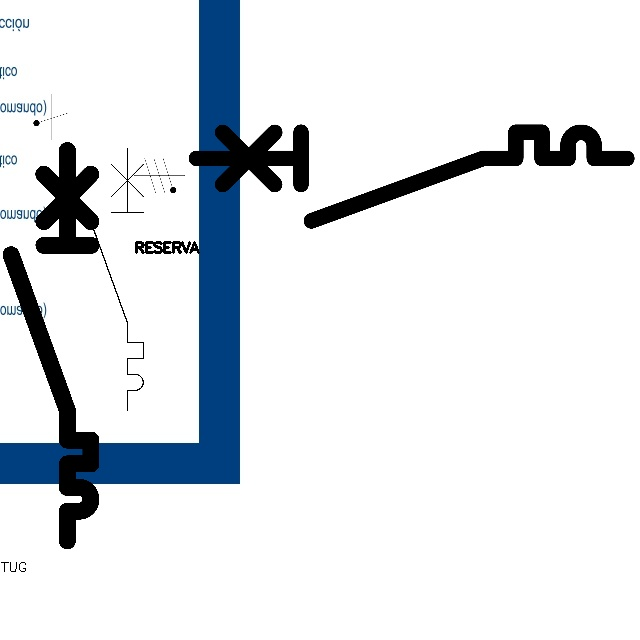interruptor_termomagnetico: (185, 121, 638, 232), (1, 140, 101, 550), (83, 142, 150, 417)
